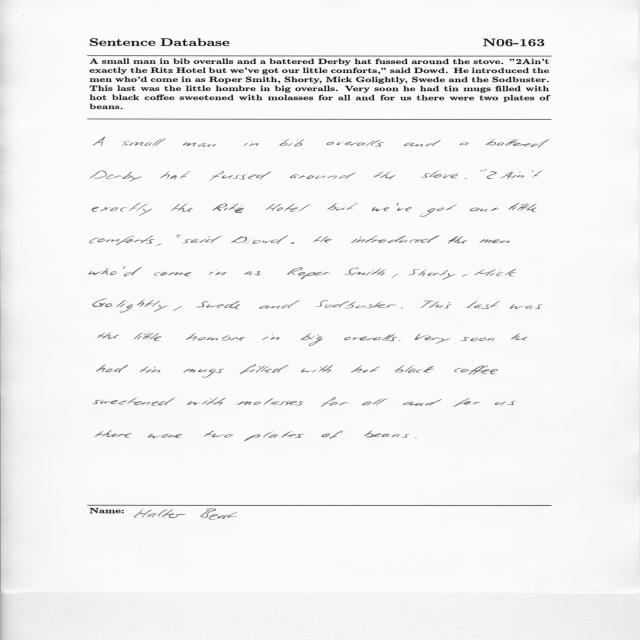word: (93, 299, 168, 313), (92, 203, 153, 216), (93, 397, 175, 406), (351, 235, 440, 243), (90, 236, 155, 246), (209, 171, 271, 181), (91, 170, 142, 182), (244, 431, 304, 441), (325, 301, 396, 309), (486, 139, 549, 148), (409, 269, 456, 280), (287, 268, 330, 280), (231, 235, 288, 244), (240, 365, 289, 375), (487, 170, 541, 179), (186, 333, 245, 341), (290, 172, 356, 179), (238, 399, 304, 406), (420, 205, 457, 217), (454, 365, 498, 375), (327, 140, 385, 147), (415, 333, 450, 344), (344, 334, 397, 341), (184, 369, 225, 378), (121, 138, 166, 146), (259, 300, 299, 309), (266, 204, 310, 212), (196, 301, 240, 309), (475, 269, 517, 277), (345, 268, 386, 276), (394, 365, 434, 373), (187, 398, 226, 406), (213, 203, 244, 213), (467, 300, 501, 309), (421, 171, 458, 179), (301, 333, 323, 346), (321, 397, 349, 407), (183, 236, 222, 243), (160, 171, 190, 180), (403, 399, 441, 406), (404, 140, 441, 147), (95, 431, 132, 438), (301, 365, 333, 373), (509, 203, 537, 212), (364, 431, 400, 438), (421, 301, 452, 309), (97, 365, 128, 373), (372, 203, 399, 212), (454, 398, 481, 407), (328, 203, 358, 211), (351, 365, 380, 373), (134, 333, 162, 341), (204, 431, 233, 438), (279, 139, 304, 147), (362, 398, 387, 406), (89, 268, 117, 275), (123, 267, 142, 277), (322, 430, 343, 439), (171, 204, 193, 212), (183, 142, 216, 147), (510, 304, 542, 309), (374, 172, 396, 179), (448, 236, 467, 244), (154, 272, 192, 276), (470, 207, 499, 212), (140, 366, 160, 373), (461, 337, 495, 341), (148, 434, 182, 438), (314, 236, 332, 243), (98, 333, 119, 339), (480, 239, 510, 243), (209, 269, 226, 276), (511, 334, 527, 341), (93, 137, 105, 146), (262, 334, 280, 340), (316, 300, 328, 307), (495, 401, 516, 405), (244, 141, 259, 146), (244, 271, 261, 275), (397, 207, 412, 211), (173, 306, 182, 311), (460, 142, 469, 146), (402, 434, 409, 438), (392, 274, 398, 278), (155, 243, 162, 246), (176, 235, 181, 238), (462, 274, 467, 277), (481, 170, 487, 172), (291, 242, 295, 244), (465, 178, 467, 179), (401, 308, 402, 309), (399, 341, 400, 342)
